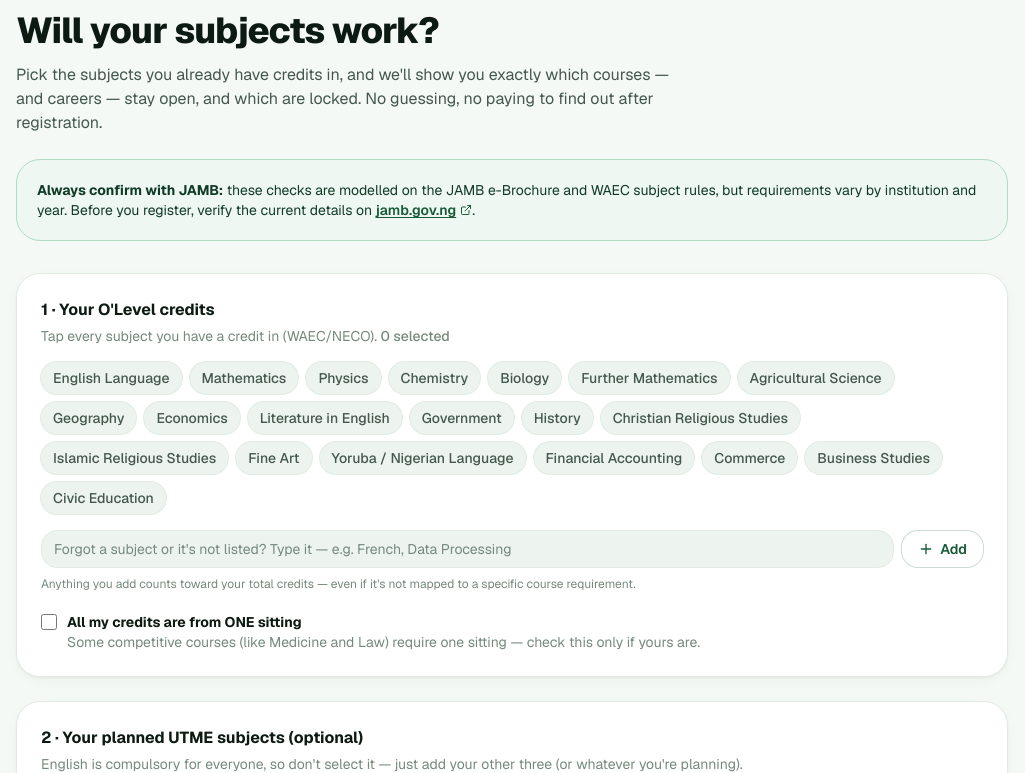
Test: SubjectChecker › selects the listed chip when the user types a known subject name
Replace the text in the field named "Add a subject not listed" with "civic education". click: (468, 549)
box: [41,530,894,568]
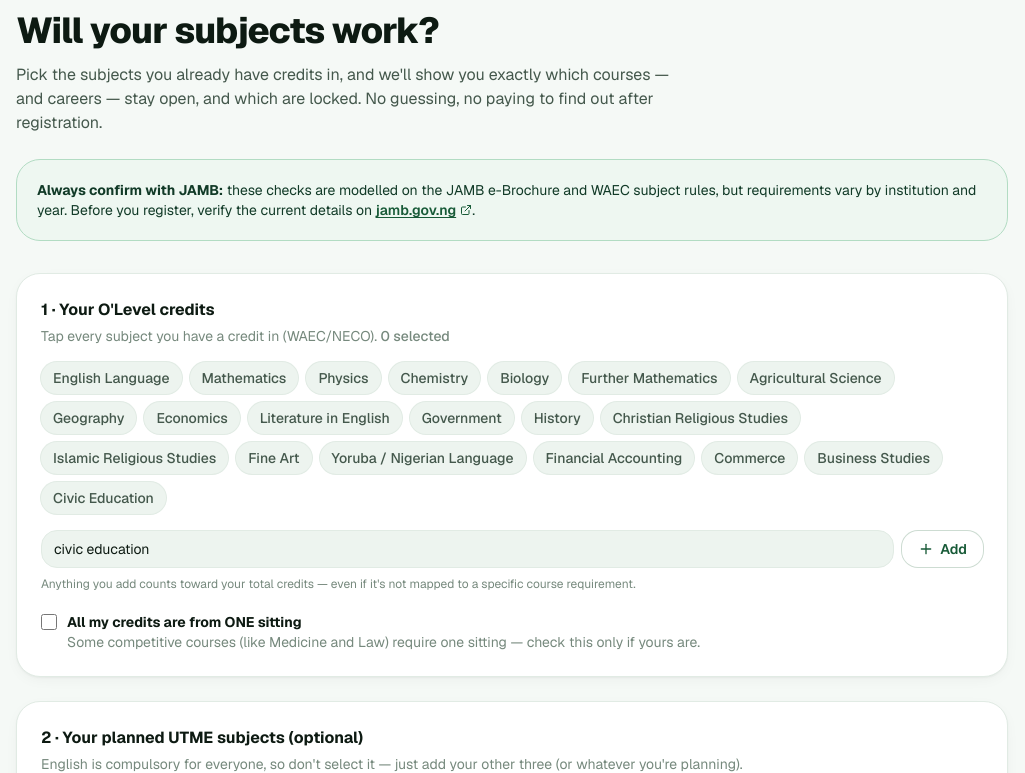
Click the button "Add". click: (943, 549)
box: [902,531,983,567]
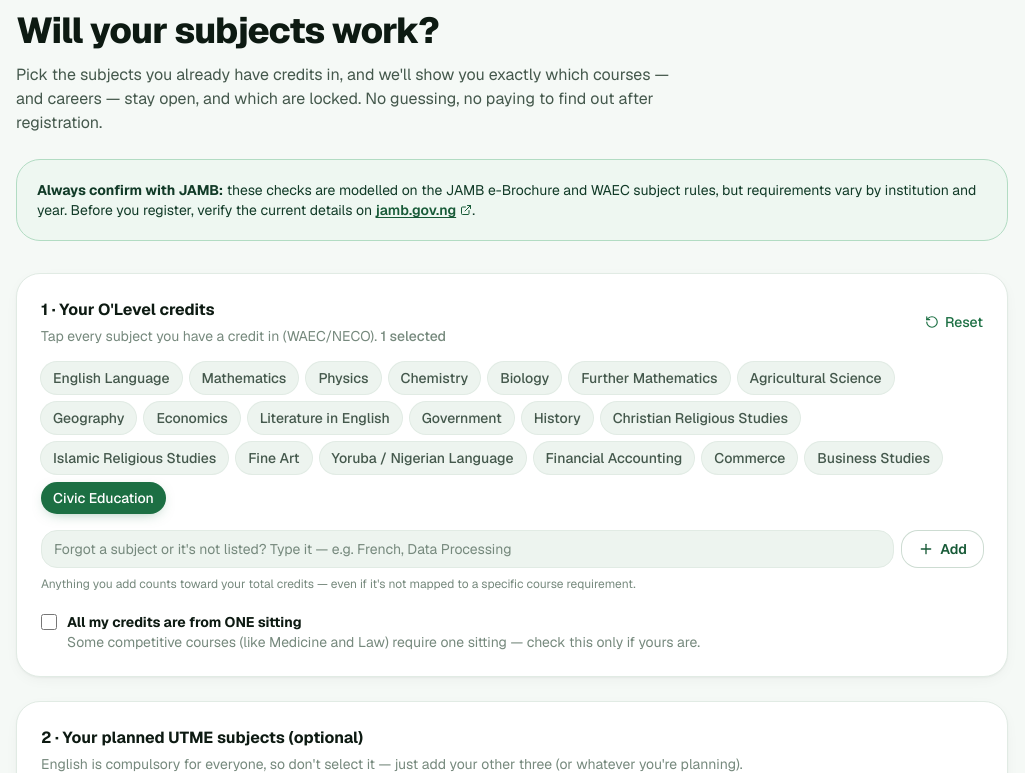
Now the text "1 selected" is shown, box [380,327,446,345]
